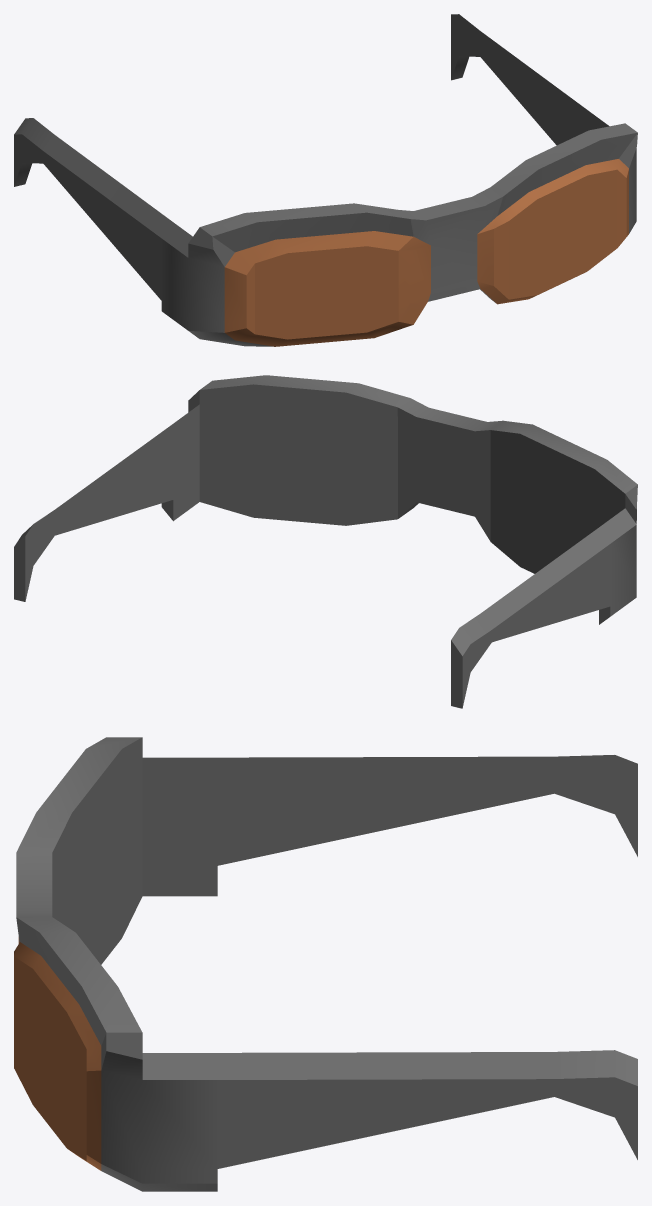
Rendered from electro_face_model_2.gltf.
3 views of the same model, one above another, from view 1: azimuth 30°, elevation 25°; view 2: azimuth 150°, elevation 25°; view 3: azimuth 270°, elevation 25° (orthographic). The views are drawn at different scales.
Parts seen in each view (by area): view 1: Куб.001; view 2: Куб.001; view 3: Куб.001.
Boxes of the visible parts, box(x1,y1,x2,y2) form: Куб.001: box(14, 14, 637, 346); Куб.001: box(14, 375, 637, 708); Куб.001: box(14, 737, 637, 1191).
Size of the model in its own units: 15.34 by 4.36 by 13.
